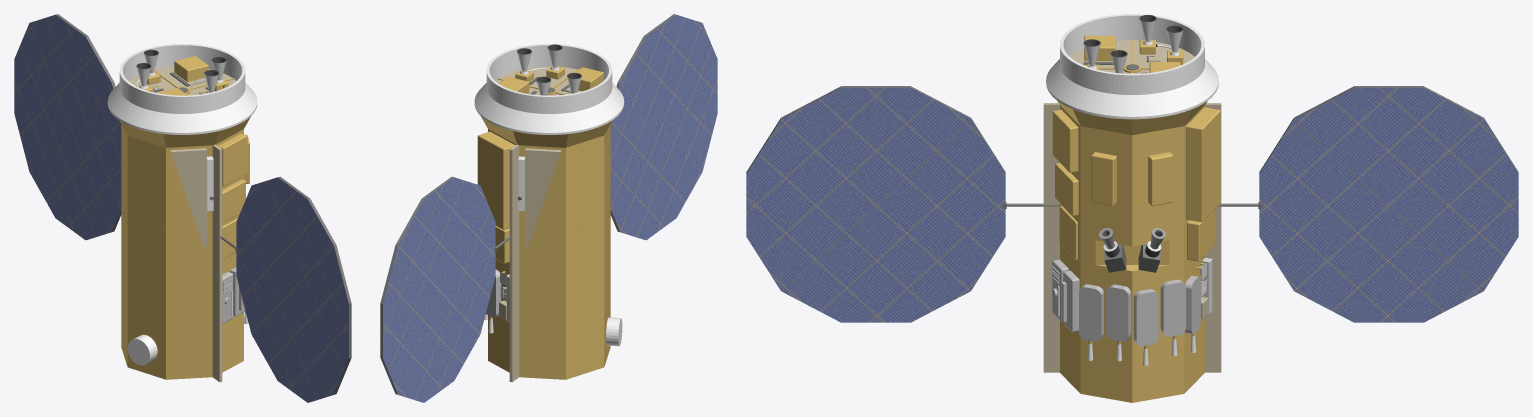
File: deformation-ecosystem-structure-and-dynamics-of-ice-desdyn-i.glb
The picture shows the model from 3 angles, left to right: view 1: azimuth 30°, elevation 25°; view 2: azimuth 150°, elevation 25°; view 3: azimuth 270°, elevation 25°; orthographic projection. The views are drawn at different scales.
Parts seen in each view (by area): view 1: Layer_0, Layer_1; view 2: Layer_0, Layer_1; view 3: Layer_1, Layer_0.
Part boxes in pixels (<box>): Layer_0: <box>107,44,257,382</box>; Layer_1: <box>14,14,351,402</box>; Layer_0: <box>474,44,624,382</box>; Layer_1: <box>380,14,717,402</box>; Layer_1: <box>746,86,1518,322</box>; Layer_0: <box>1043,14,1221,402</box>.
Bounding box in the file's own units: 4.79 × 10.2 × 21.28.
